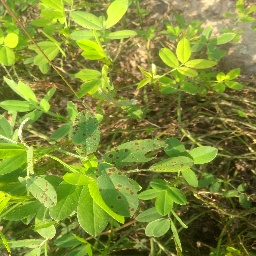GroundNut_Leaf: (96, 164, 138, 219), (58, 165, 94, 225), (71, 110, 99, 161), (165, 147, 218, 173), (103, 139, 163, 161), (20, 175, 56, 211), (4, 75, 39, 104), (1, 145, 30, 174), (31, 44, 61, 71), (68, 11, 101, 35), (38, 1, 66, 27), (103, 1, 127, 30), (76, 39, 105, 62), (1, 33, 15, 67), (145, 220, 170, 239), (79, 72, 106, 89), (176, 37, 192, 64), (154, 192, 171, 216), (1, 120, 16, 142), (53, 125, 68, 141), (193, 59, 216, 68)
